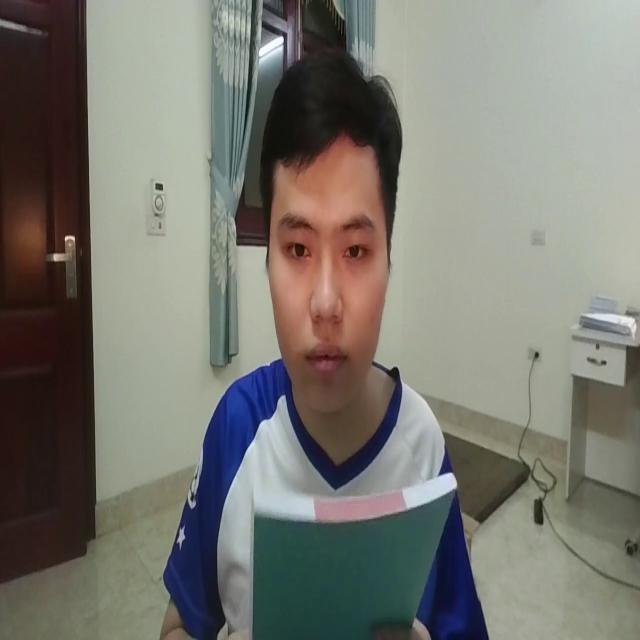book: (234, 447, 466, 640)
student: (147, 46, 497, 640)
